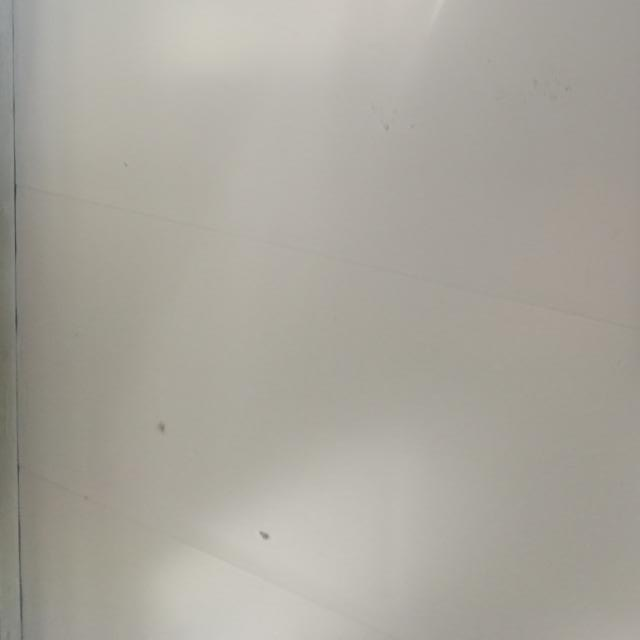fluorescent tube: (626, 0, 640, 423)
